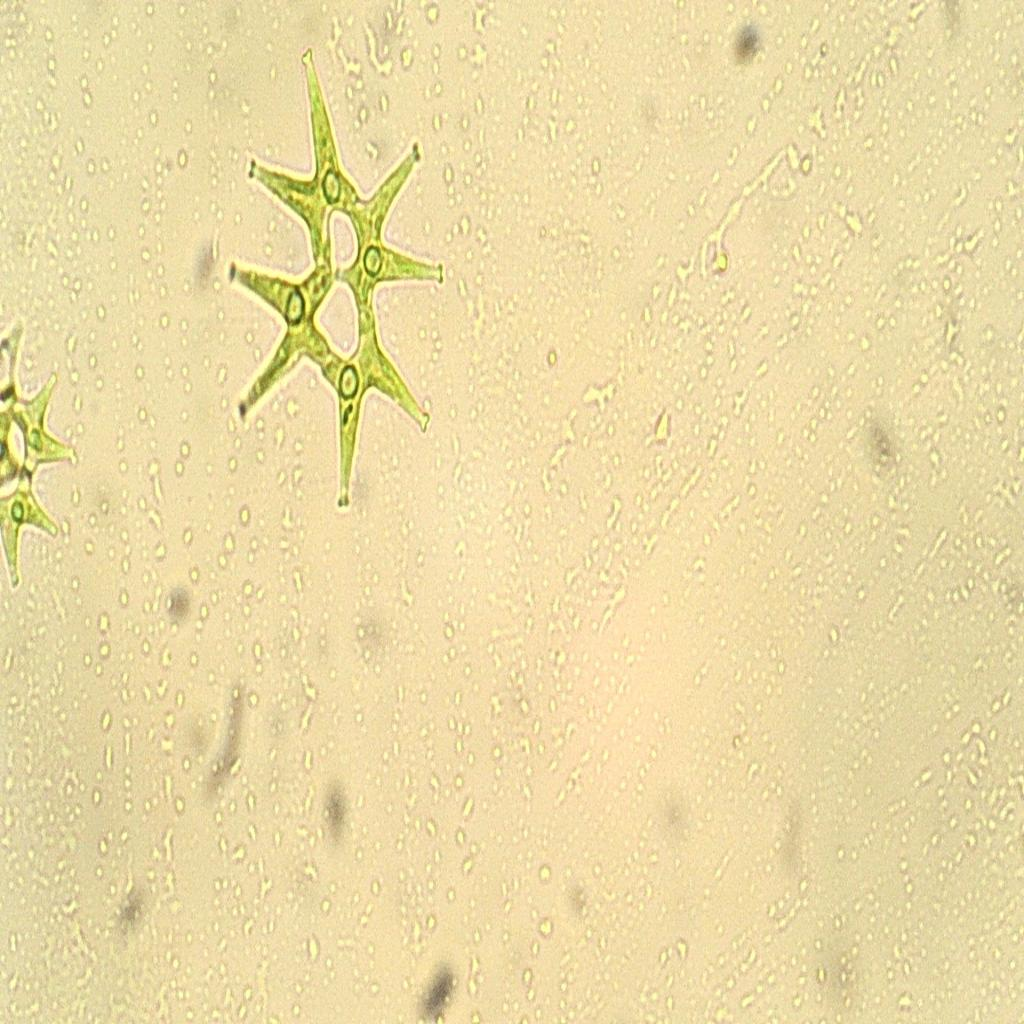Pediastrum_75FO: (208, 43, 451, 533)
